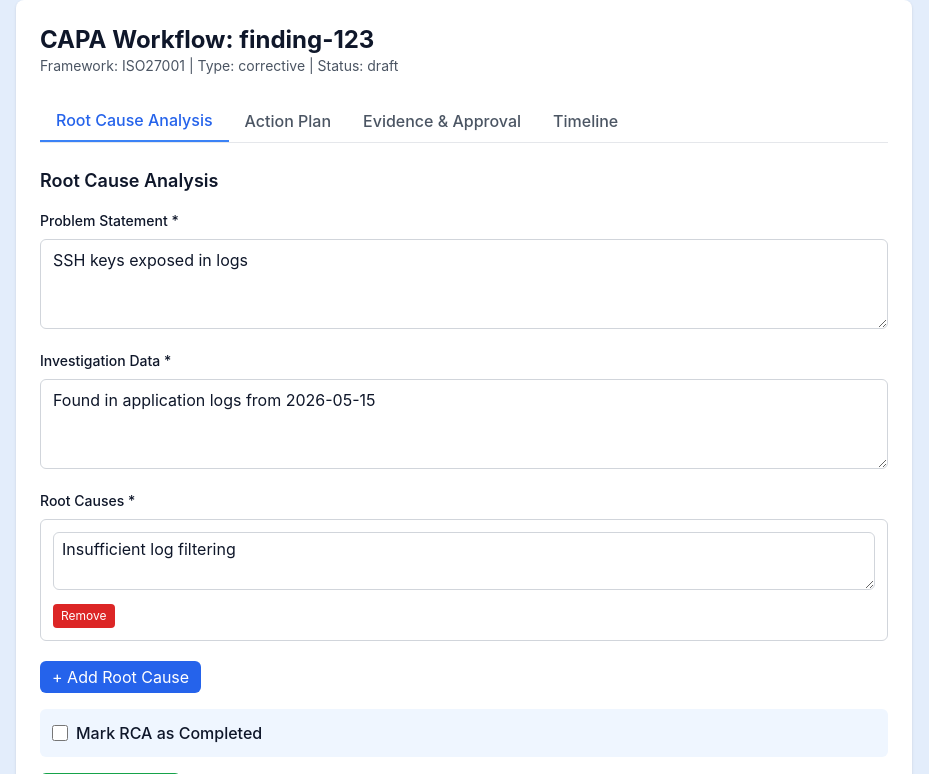
Scenario: CapaDetailPanel › should render action plan section
Click the button "Action Plan" at (288,121), box [229,100,347,142]
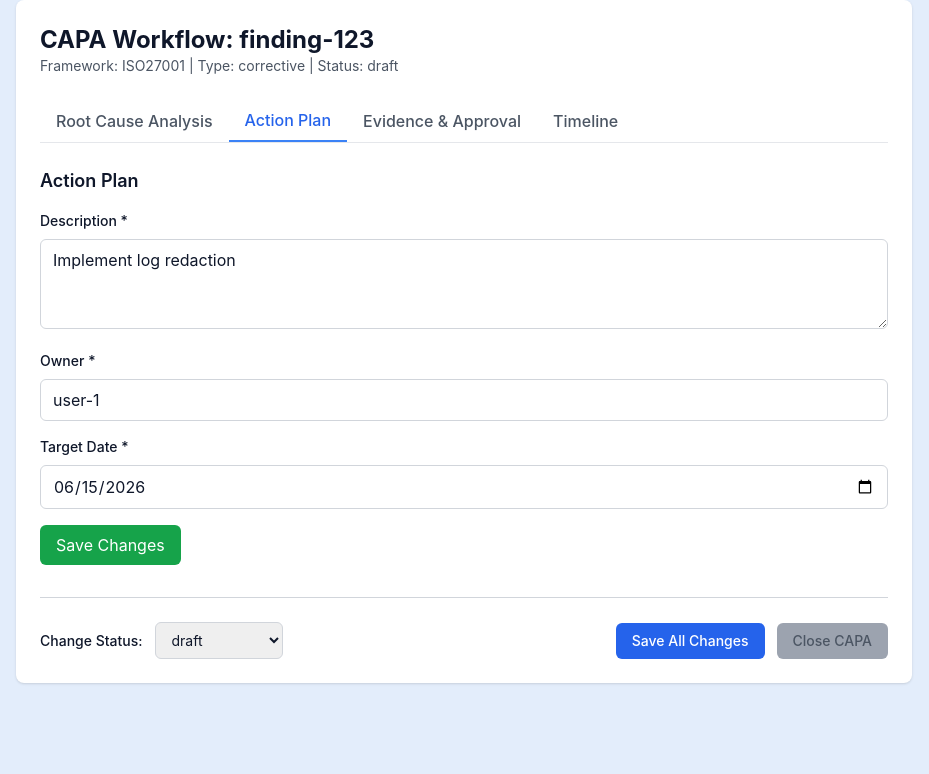
Now the text box showing "Implement log redaction" is shown, box [40,239,888,329]
